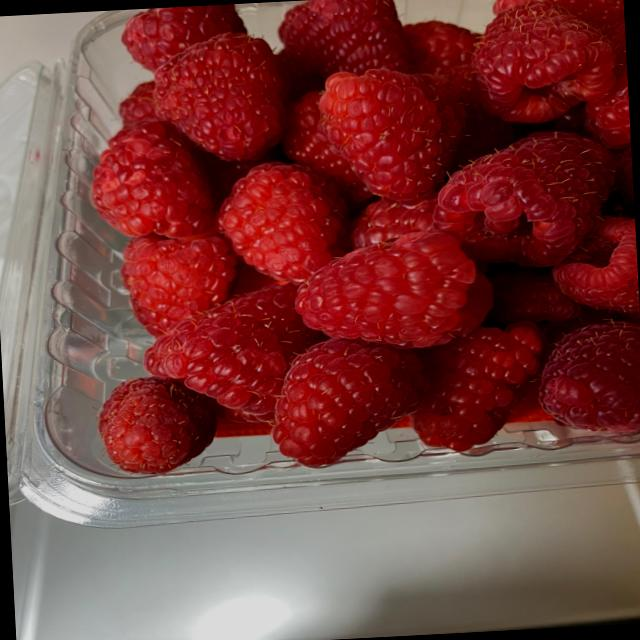raspberries: (53, 0, 628, 487)
